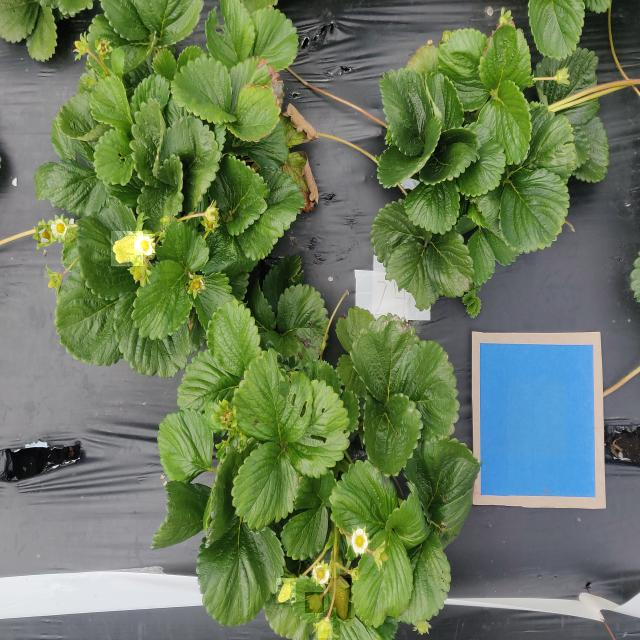Flower: (351, 523, 371, 558), (310, 560, 332, 587), (134, 234, 156, 256), (50, 216, 70, 239), (38, 225, 52, 244)
Green Strawberry: (111, 232, 144, 268), (328, 578, 352, 620), (276, 578, 297, 604), (71, 34, 92, 59), (44, 266, 62, 294), (305, 592, 325, 614), (316, 618, 334, 640), (189, 276, 204, 295)
